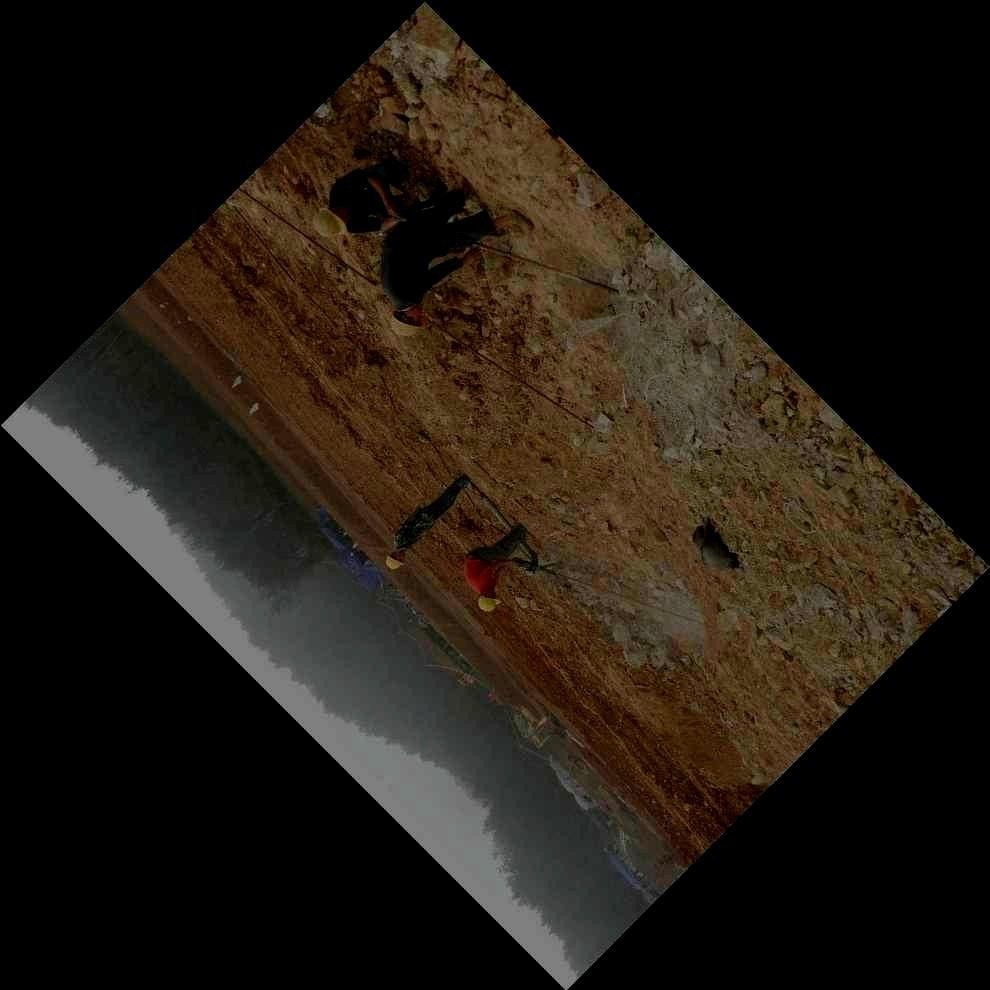helmet: (390, 305, 428, 336), (313, 207, 352, 237), (477, 591, 501, 612), (386, 550, 405, 569)
